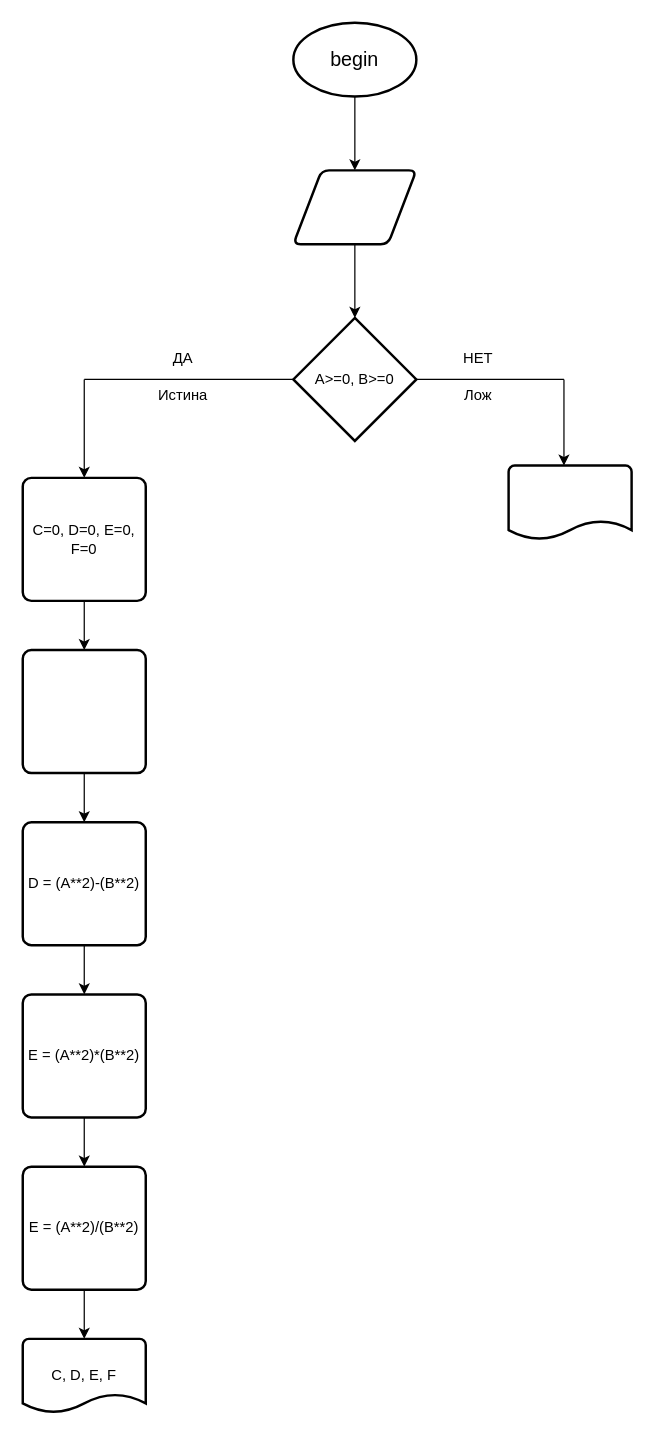
Image size: 653x1434. Some labels were removed from this diagram. Each missing label, with the box of its shape:
A, B: (292, 169, 417, 245)
C = (A**2)+(B**2): (21, 648, 146, 774)
END: (507, 464, 632, 540)
